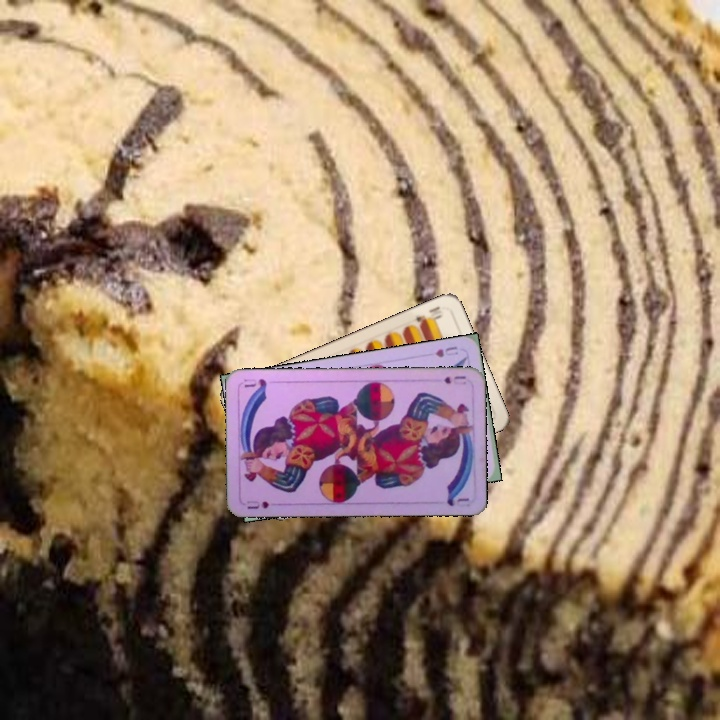E10: (412, 302, 446, 329)
HU: (431, 342, 461, 360)
SU: (440, 372, 468, 386), (243, 497, 271, 511)
